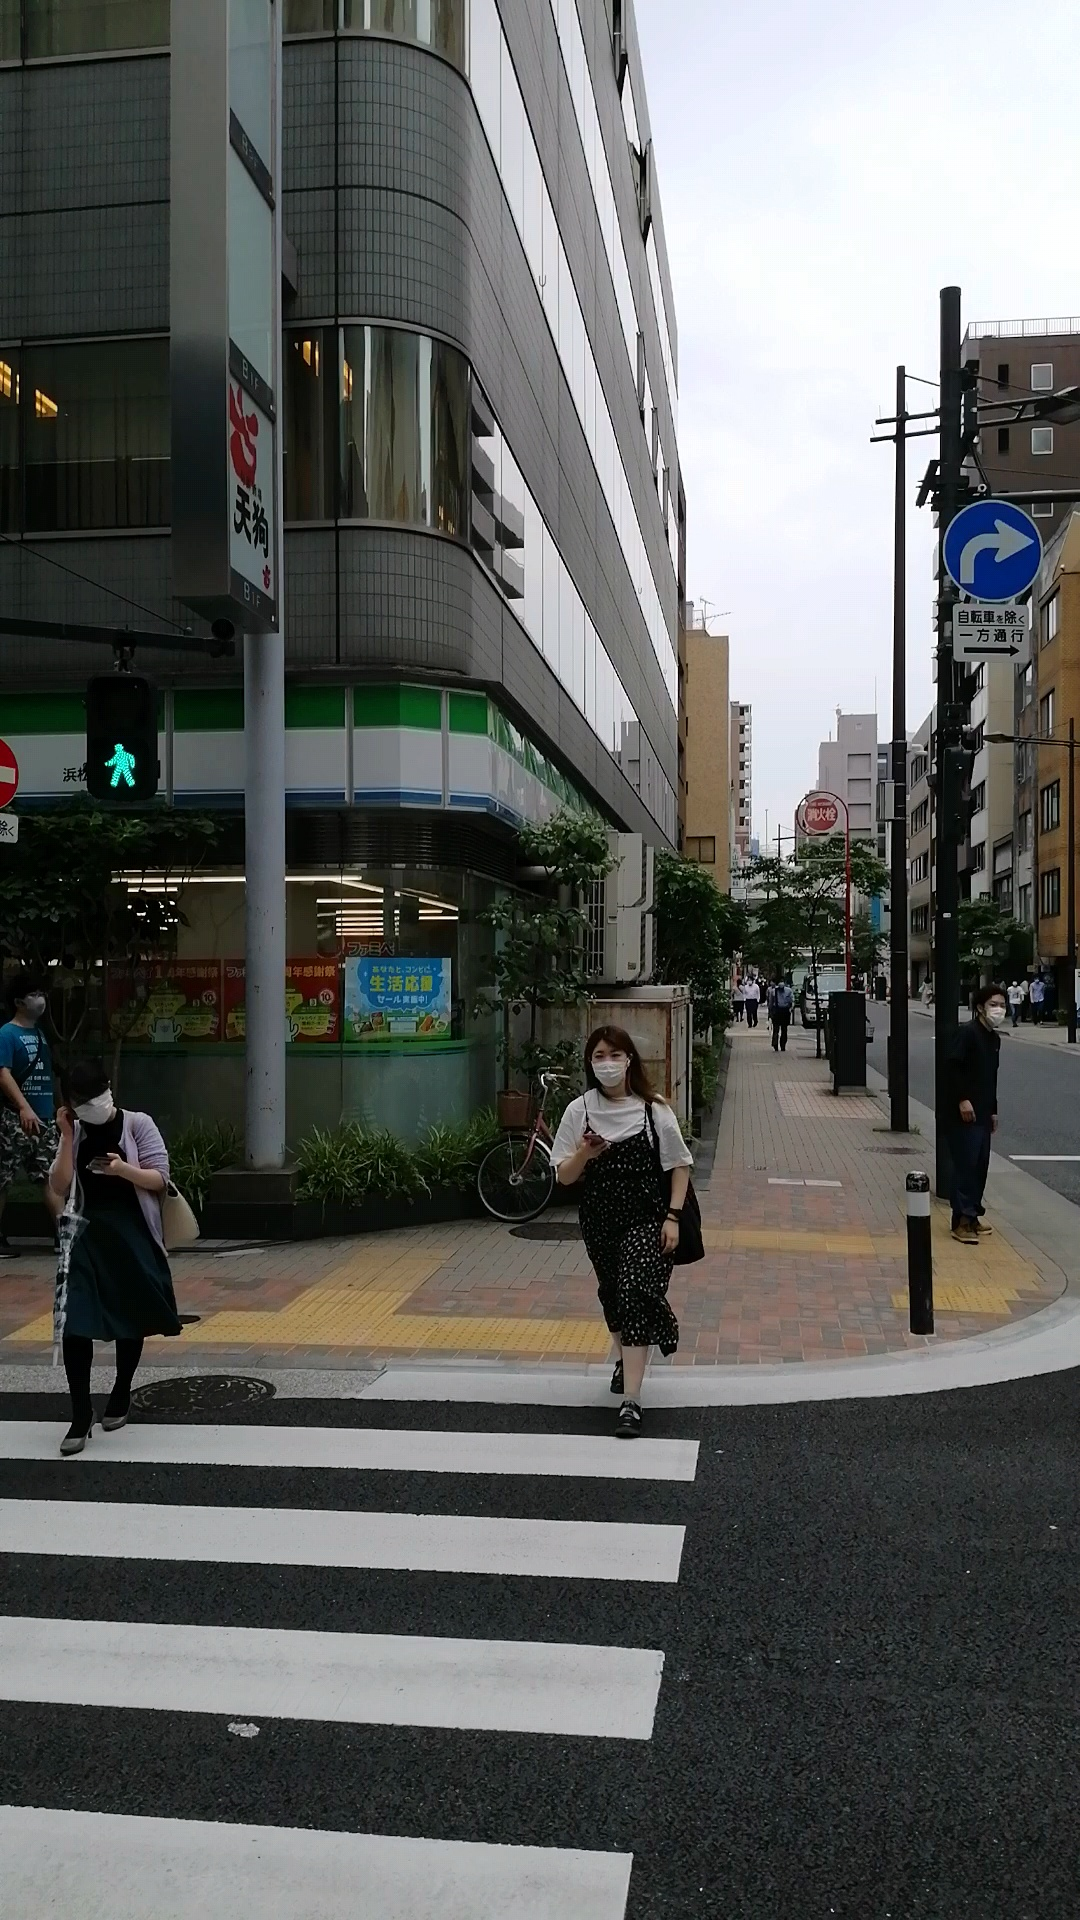green: (86, 674, 160, 800)
